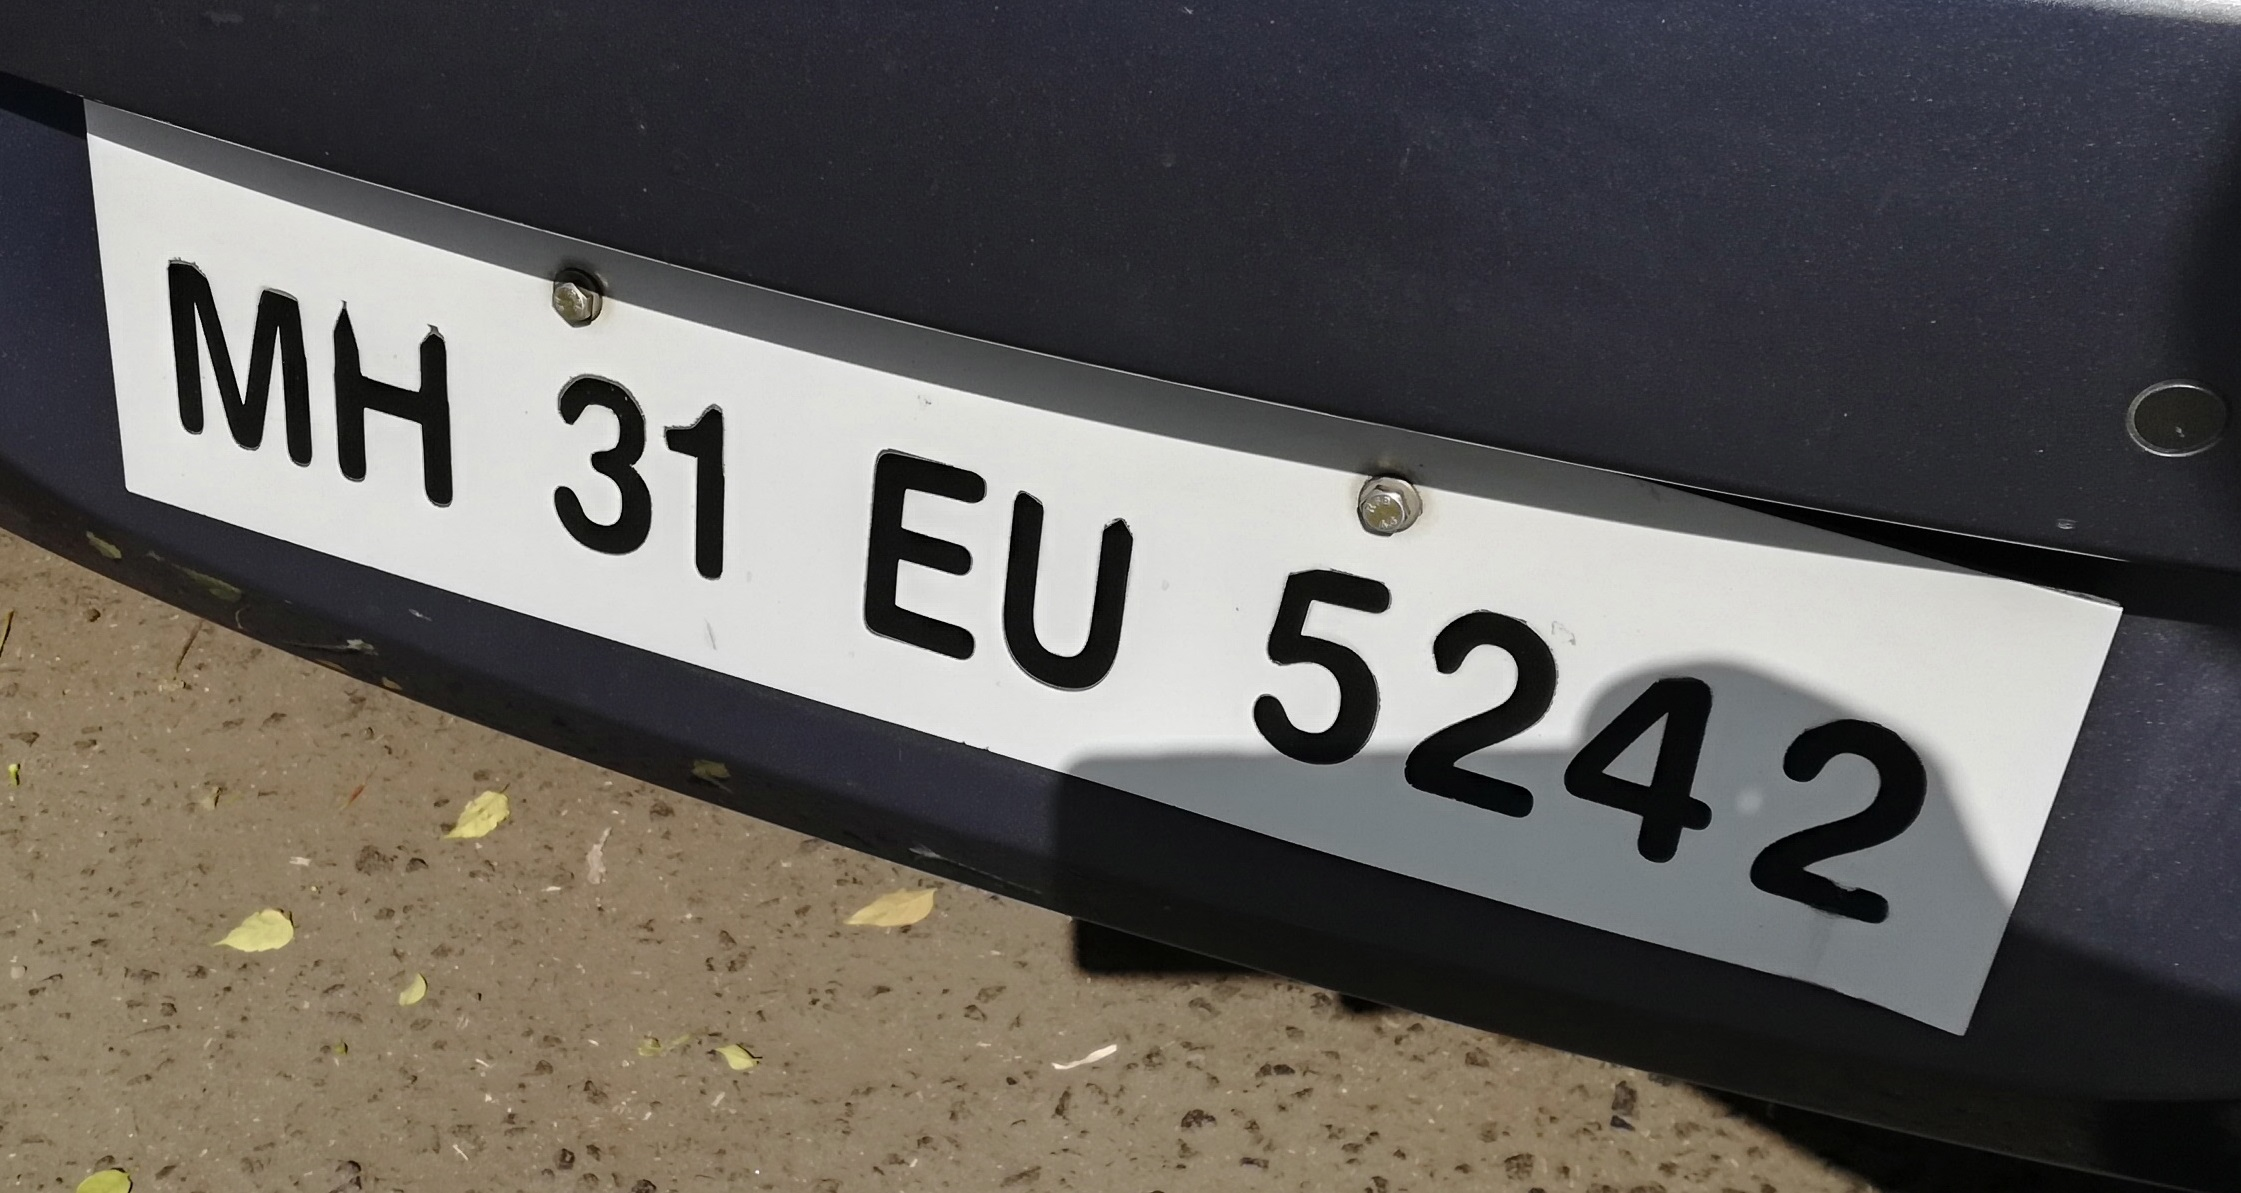numberplate: (55, 86, 2126, 1054)
